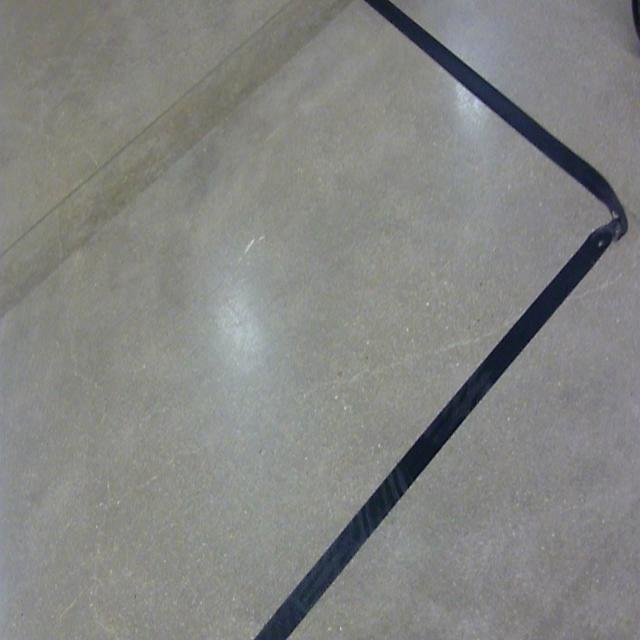tape: (232, 0, 636, 640)
